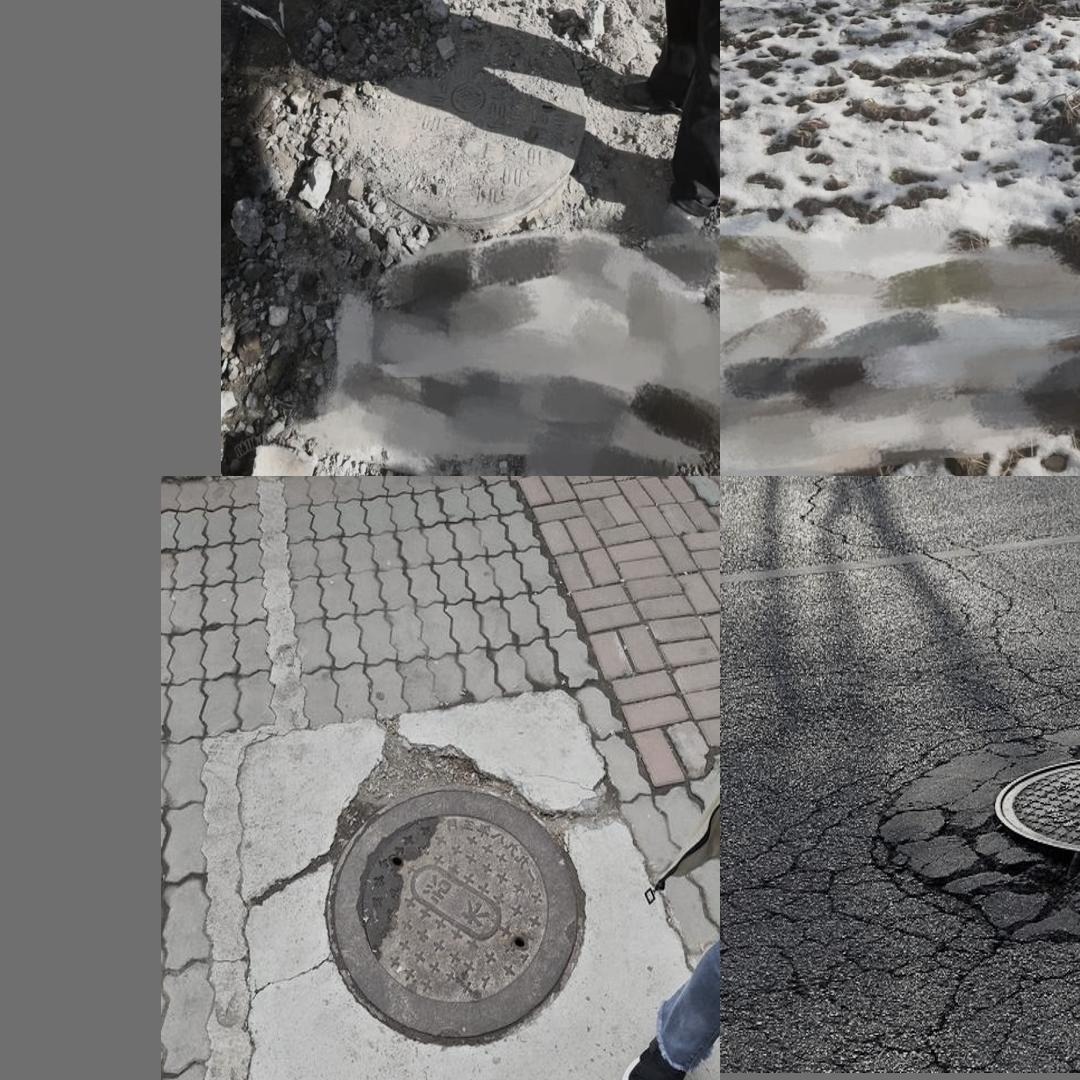circle: (260, 725, 635, 1080), (303, 6, 617, 270), (856, 715, 1080, 975)
